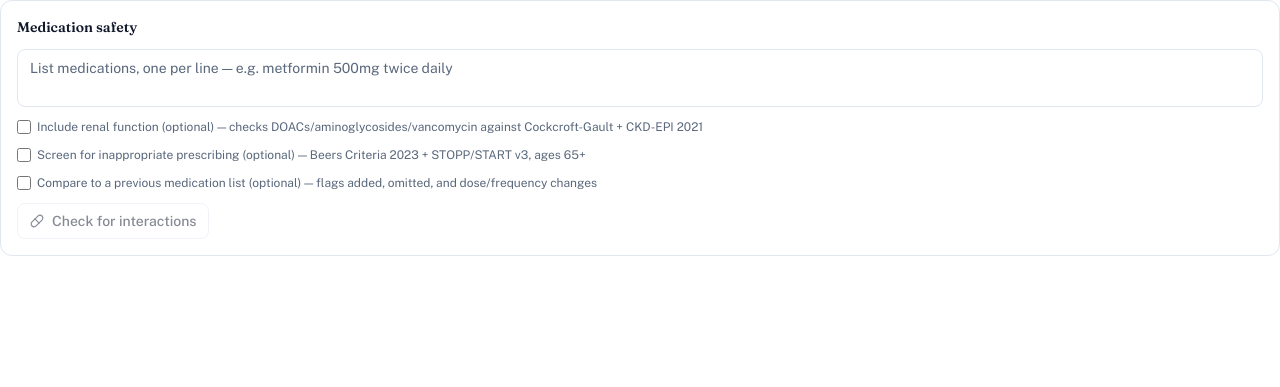
Test: MedicationPanel › renal parameters › reveals renal fields when the checkbox is checked, hidden by default
Expected: the text "age (years)" is not shown
Click the checkbox labelled "Include renal function": (24,127) [17,120,31,134]
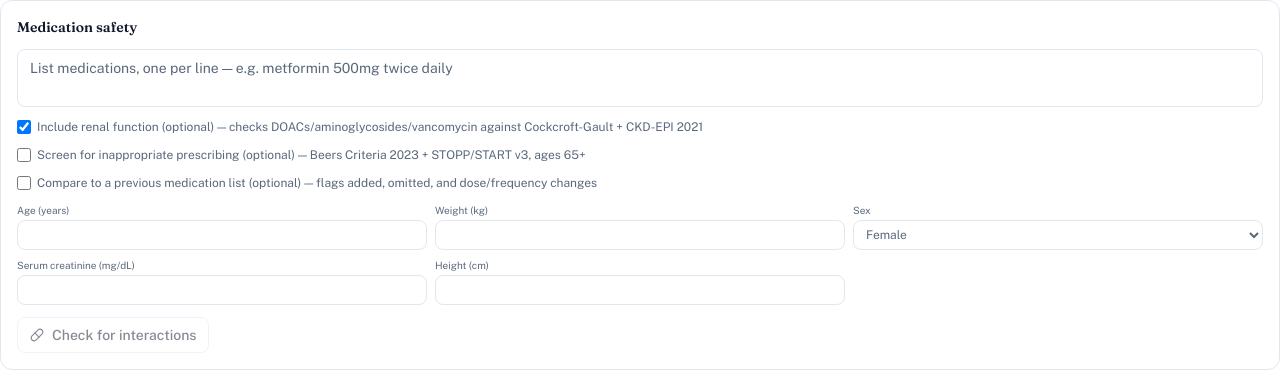
Result: the text "Age (years)" is shown at [17,203,427,250]
